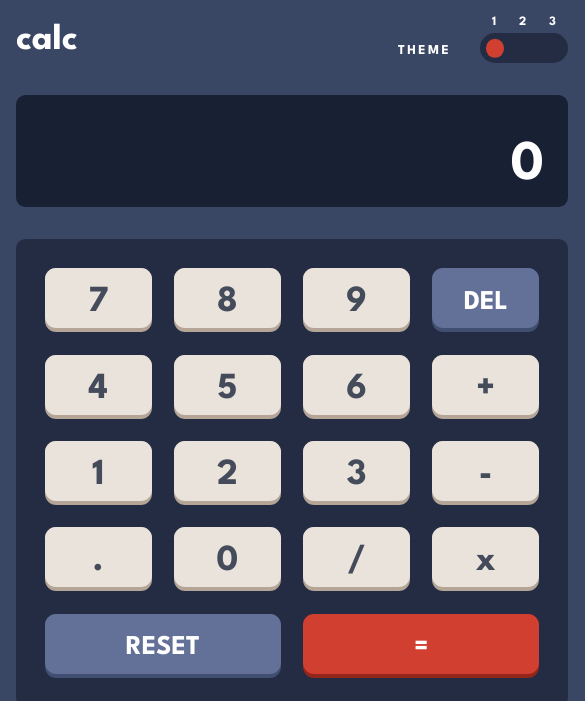
Type on the keypad › should show a number when it has been typed
The width and height of the screenshot is (585, 701).
Click the element showing "1": {"x": 98, "y": 473} [45,441,152,505]
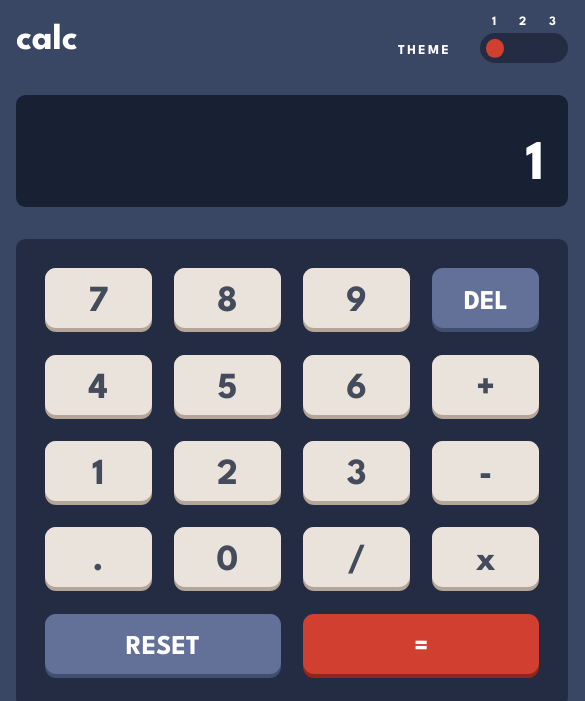
Now the text named "calculator_current_value" reads "1", box [526,140,544,191]
